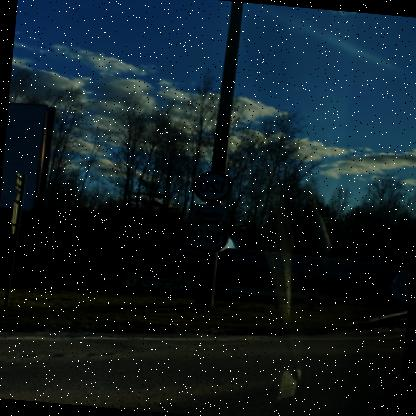speedlimit: (195, 168, 236, 204), (190, 218, 231, 254)
